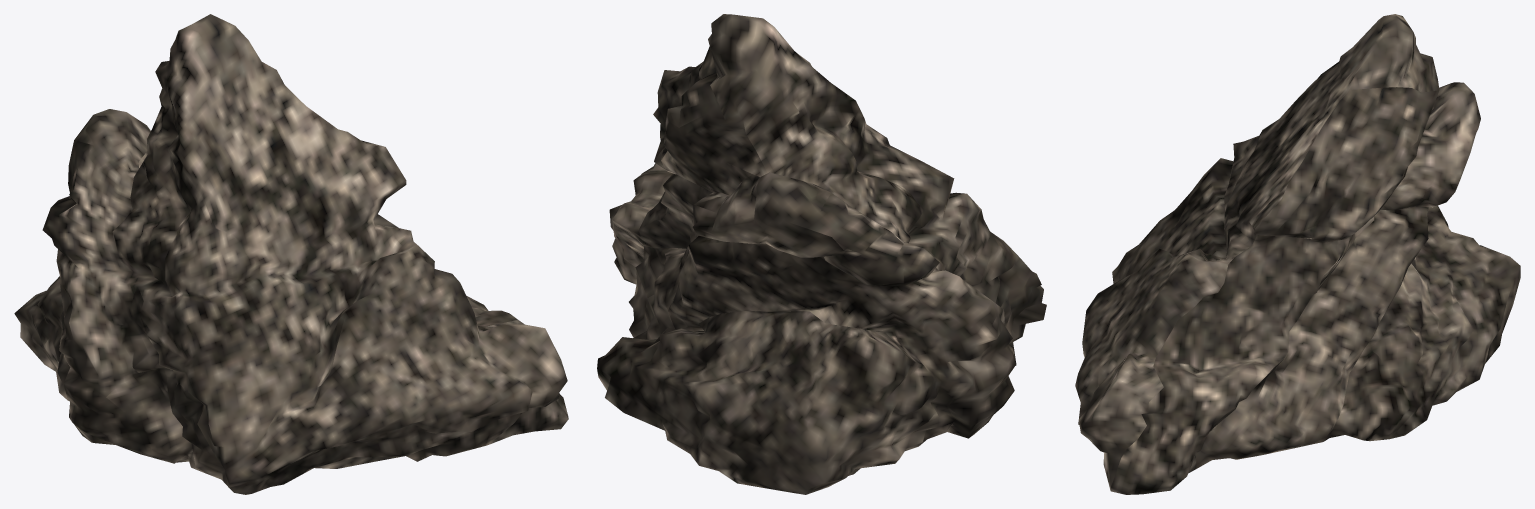
File: SM_ION_Pointy_Rock_01.fbx
The picture shows the model from 3 angles, left to right: view 1: azimuth 30°, elevation 25°; view 2: azimuth 150°, elevation 25°; view 3: azimuth 270°, elevation 25°; orthographic projection. The views are drawn at different scales.
Visible parts, largest first — view 1: SM_ION_Pointy_Rock_01.mo; view 2: SM_ION_Pointy_Rock_01.mo; view 3: SM_ION_Pointy_Rock_01.mo.
Boxes of the visible parts, bbox=[...] form: SM_ION_Pointy_Rock_01.mo: bbox=[14, 14, 568, 494]; SM_ION_Pointy_Rock_01.mo: bbox=[597, 14, 1046, 494]; SM_ION_Pointy_Rock_01.mo: bbox=[1075, 14, 1520, 494].
Size of the model in its own units: 394 by 333 by 360.
